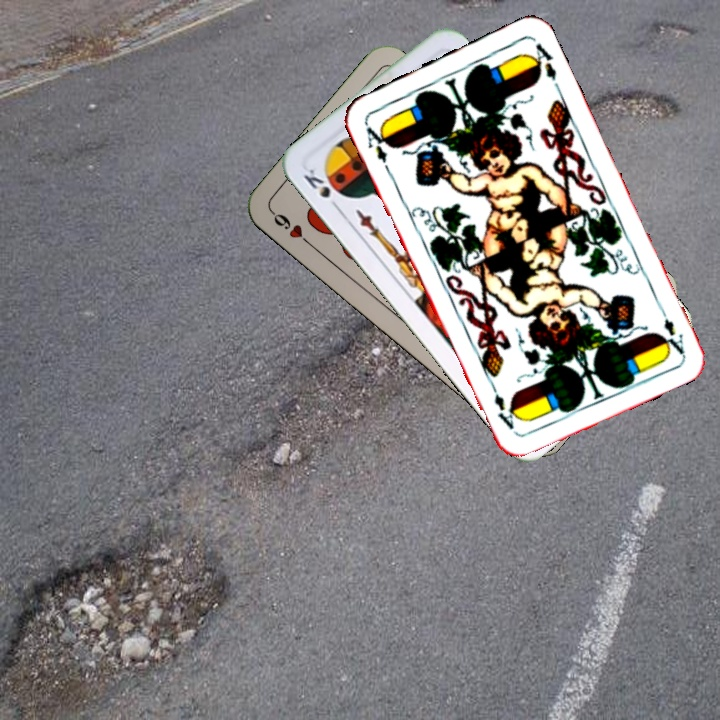EA: (653, 301, 687, 357), (360, 119, 393, 175)
H9: (267, 207, 316, 250)
SK: (299, 164, 347, 214)
